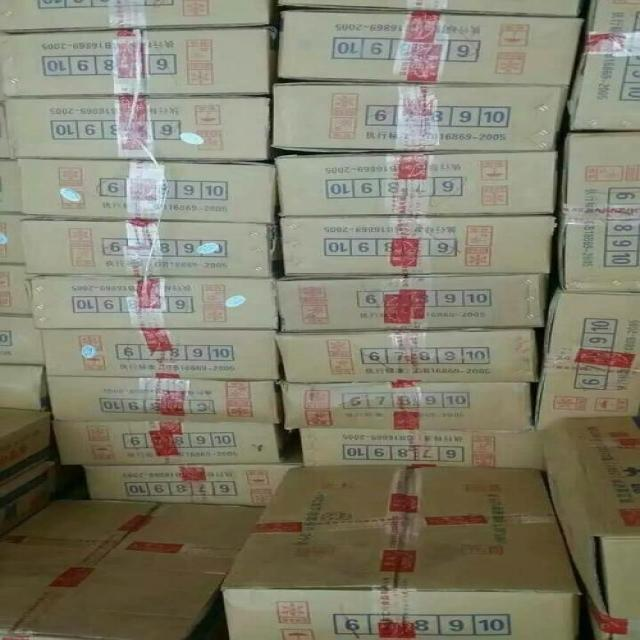box: (219, 464, 584, 640), (0, 499, 264, 640), (276, 10, 582, 86), (544, 417, 640, 640), (271, 81, 568, 153), (0, 27, 279, 98), (274, 151, 556, 215), (6, 96, 275, 161), (18, 159, 276, 225), (279, 215, 554, 276), (276, 274, 550, 333), (20, 217, 278, 279), (534, 287, 640, 431), (274, 328, 539, 383), (84, 443, 303, 507), (23, 275, 280, 329), (276, 380, 532, 431), (559, 131, 640, 292), (41, 329, 280, 380), (47, 376, 284, 424), (54, 421, 301, 465), (301, 428, 545, 467), (568, 0, 640, 132), (278, 0, 585, 19), (0, 459, 59, 538), (0, 407, 51, 486), (1, 314, 43, 364), (2, 364, 43, 411), (0, 263, 34, 314), (0, 211, 30, 263), (1, 159, 20, 211)
